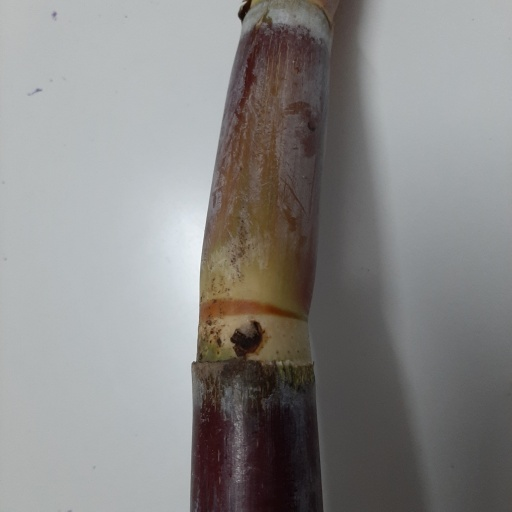Damage_Bud: (230, 321, 267, 359)
